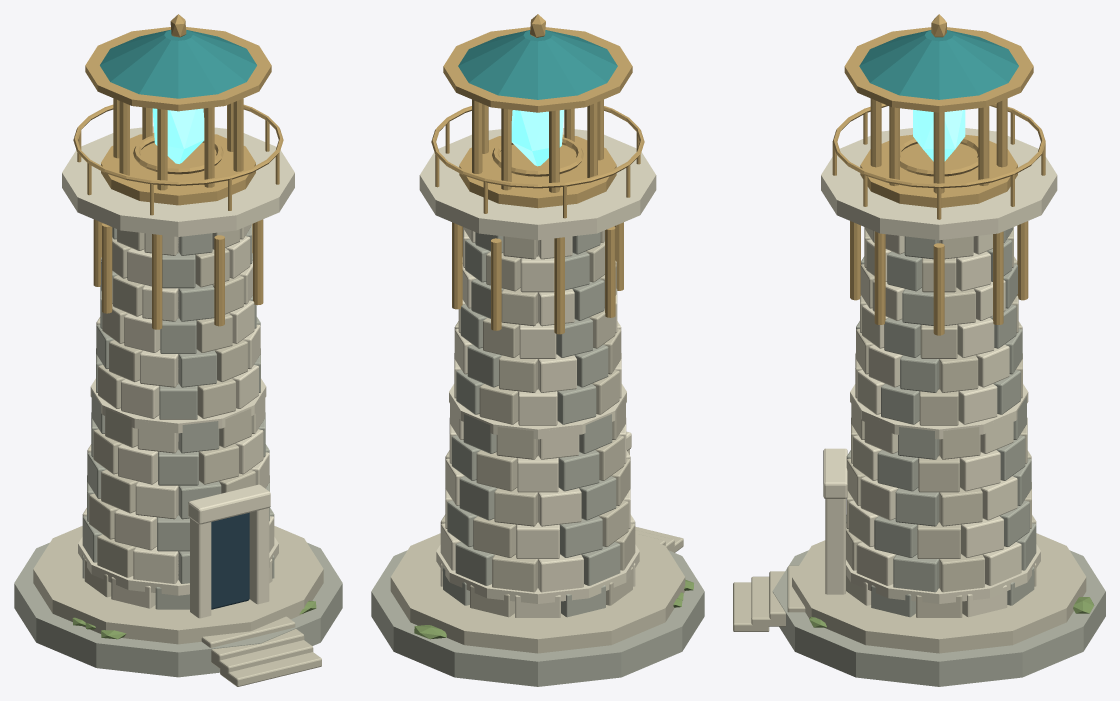
Rendered from orchestra-lighthouse.glb.
The picture shows the model from 3 angles, left to right: view 1: azimuth 30°, elevation 25°; view 2: azimuth 150°, elevation 25°; view 3: azimuth 270°, elevation 25°; orthographic projection.
Visible parts, largest first — view 1: Static_Limestone_light, Static_Warm_limestone, Static_Limestone_shadow, Static_Aged_brass, Static_Teal_painted_cedar, Static_Deep_indigo_recess, Lantern_crystal; view 2: Static_Limestone_shadow, Static_Warm_limestone, Static_Limestone_light, Static_Aged_brass, Static_Teal_painted_cedar, Lantern_crystal, Static_Moss; view 3: Static_Limestone_light, Static_Warm_limestone, Static_Limestone_shadow, Static_Aged_brass, Static_Teal_painted_cedar, Lantern_crystal.
Part boxes in pixels (x1,y1,x2,y2): Static_Limestone_light: (62, 126, 294, 618); Static_Warm_limestone: (33, 229, 323, 686); Static_Limestone_shadow: (14, 224, 342, 677); Static_Aged_brass: (73, 14, 283, 329); Static_Teal_painted_cedar: (100, 29, 256, 98); Static_Deep_indigo_recess: (211, 512, 249, 609); Lantern_crystal: (152, 108, 204, 163); Static_Limestone_shadow: (371, 232, 704, 686); Static_Warm_limestone: (390, 230, 685, 653); Static_Limestone_light: (419, 128, 656, 617); Static_Aged_brass: (431, 14, 644, 334); Static_Teal_painted_cedar: (458, 30, 617, 99); Lantern_crystal: (511, 110, 564, 166); Static_Moss: (414, 579, 693, 639); Static_Limestone_light: (821, 128, 1057, 617); Static_Warm_limestone: (733, 227, 1086, 653); Static_Limestone_shadow: (772, 227, 1105, 686); Static_Aged_brass: (832, 14, 1045, 335); Static_Teal_painted_cedar: (859, 30, 1018, 99); Lantern_crystal: (913, 109, 965, 161).
Size of the model in its own units: 5.5 by 10.97 by 6.15.
